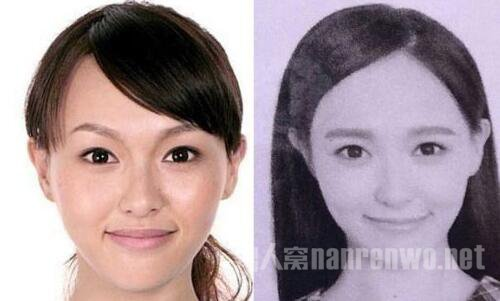unmask: (52, 76, 238, 270), (324, 70, 468, 251)
